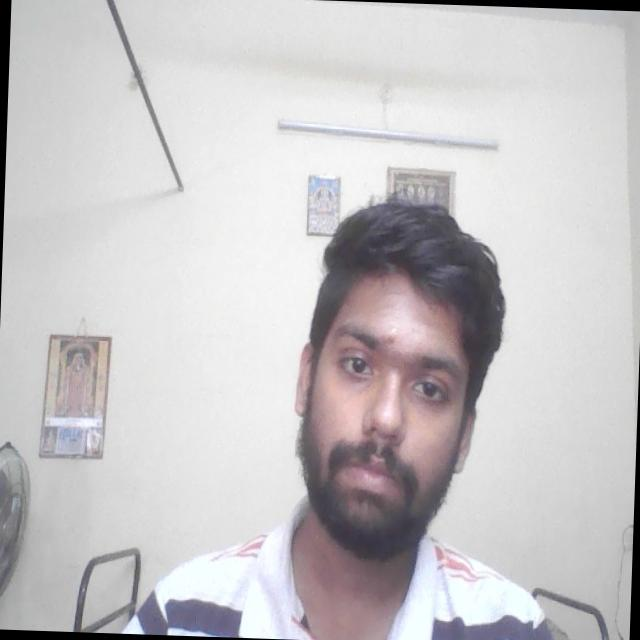Focused: (297, 285, 485, 537)
